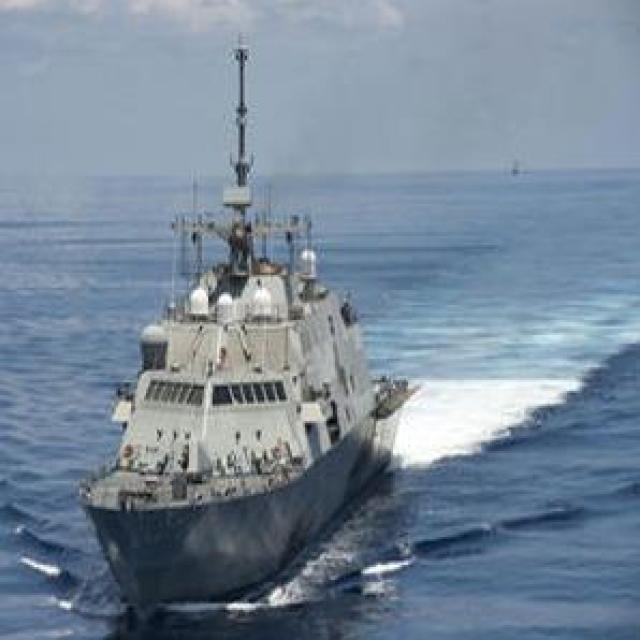navalvessels: (78, 22, 418, 594)
